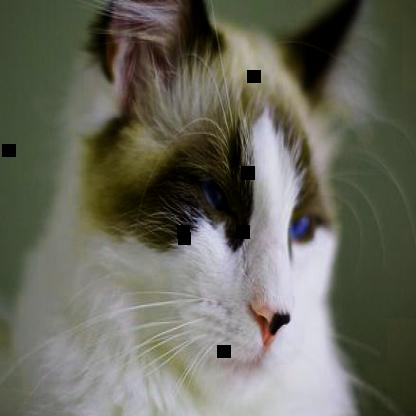cat: (10, 0, 364, 414)
